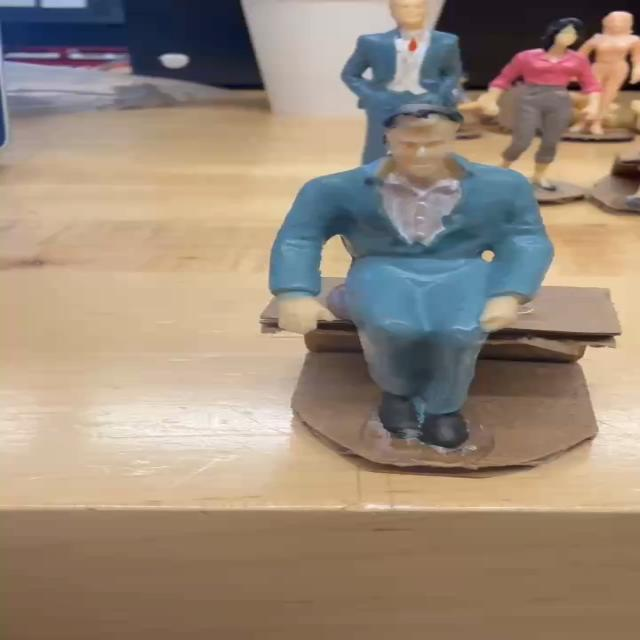Authorized: (187, 119, 603, 444)
